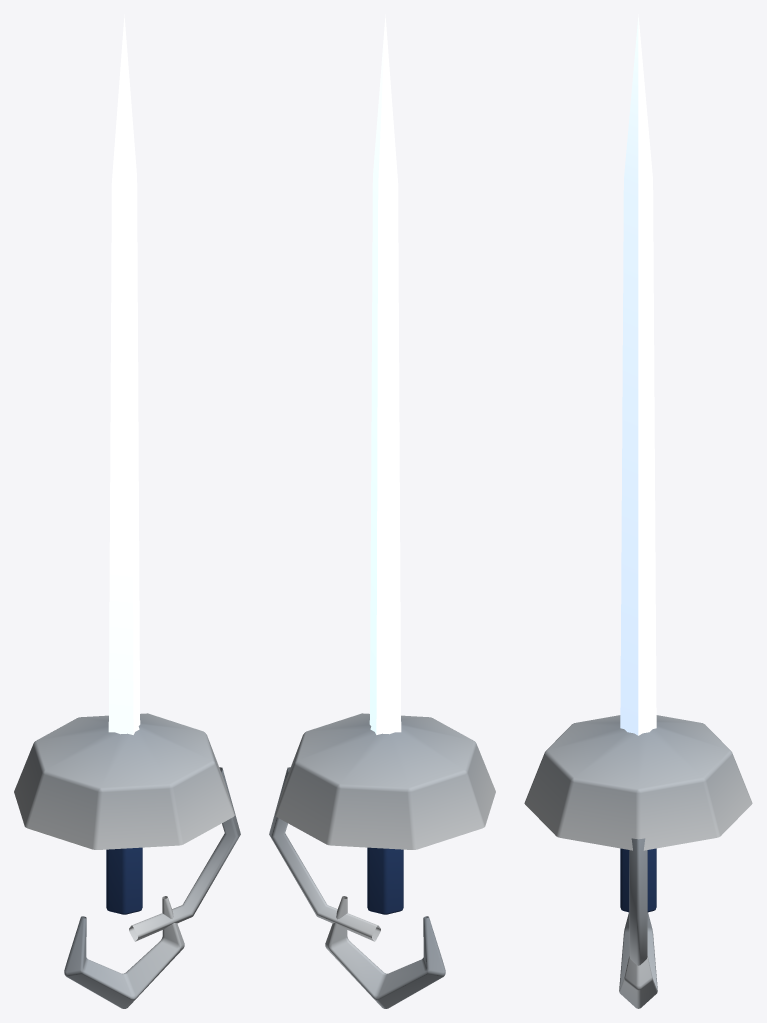
Rendered from lg_moonlit_rapier.glb.
3 views of the same model, side by side, from view 1: azimuth 30°, elevation 25°; view 2: azimuth 150°, elevation 25°; view 3: azimuth 270°, elevation 25° (orthographic).
Visible parts, largest first — view 1: lg_moonlit_rapier, lg_moonlit_rapier_glow; view 2: lg_moonlit_rapier, lg_moonlit_rapier_glow; view 3: lg_moonlit_rapier, lg_moonlit_rapier_glow.
Boxes of the visible parts, box(x1,y1,x2,y2) form: lg_moonlit_rapier: box(14, 713, 240, 1008); lg_moonlit_rapier_glow: box(108, 14, 140, 734); lg_moonlit_rapier: box(269, 713, 495, 1008); lg_moonlit_rapier_glow: box(369, 14, 401, 734); lg_moonlit_rapier: box(524, 715, 752, 1008); lg_moonlit_rapier_glow: box(620, 14, 656, 735).
Bounding box in the file's own units: 0.4759 × 2.1 × 0.4375.
